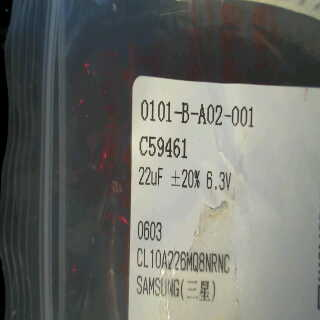22uF: (137, 164, 169, 189)
